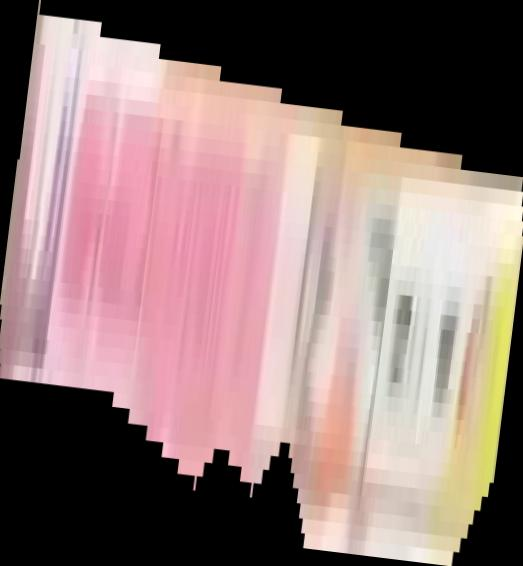flat: (1, 1, 523, 566)
